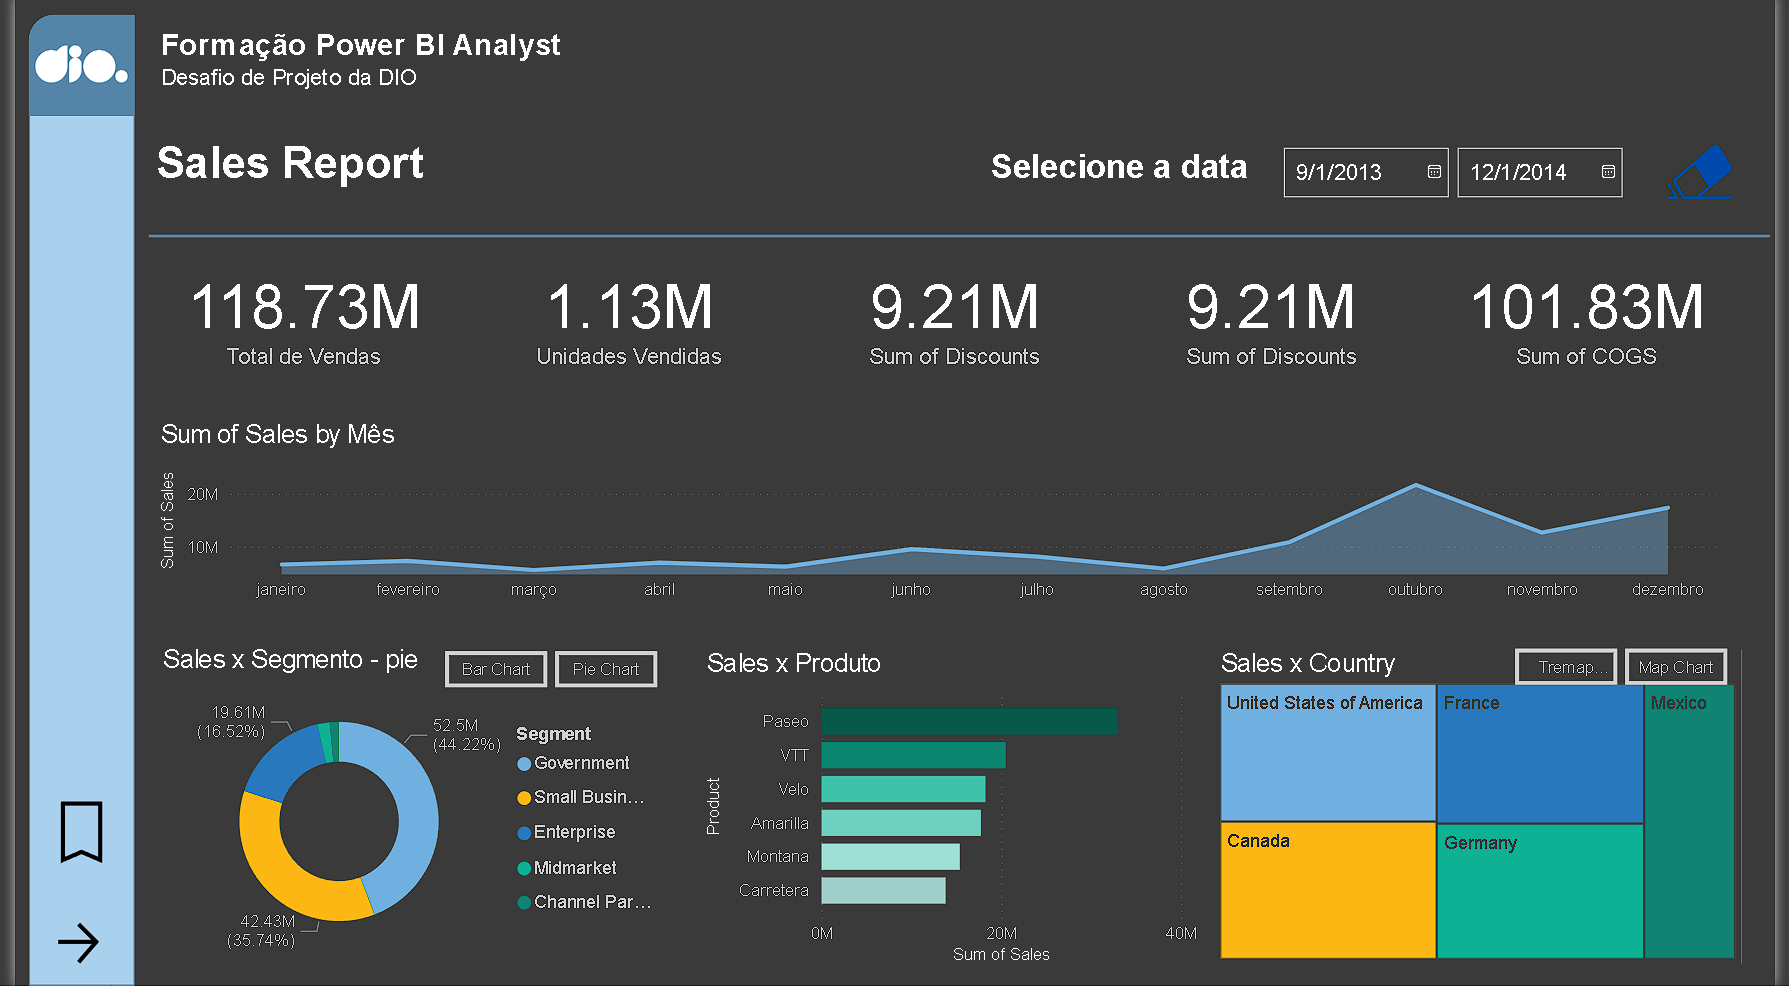

The dashboard page shown, as its layout file describes it:
{"tool":"powerbi","page":{"name":"Página 1","canvas":[1280,720],"ordinal":0},"visuals":[{"type":"shape","box":[10.1,13.4,77.2,706.3],"z":0},{"type":"slicer","fields":{"Values":["financials.Date"]},"box":[909.5,100,271.9,55.9],"z":0,"group":"g2"},{"type":"shape","box":[97,161.1,1179.4,27.4],"z":0,"group":"g5"},{"type":"donutChart","title":"Sales x Segmento - pie","fields":{"Y":["Sum(financials. Sales)"],"Category":["financials.Segment"]},"box":[102.6,471.8,376.3,236.6],"z":0,"group":"g4"},{"type":"map","title":"Sales x Country","fields":{"Category":["financials.Country"],"Size":["Sum(financials. Sales)"]},"box":[873.8,476.1,382,228.1],"z":0,"group":"g3"},{"type":"actionButton","title":"Botão - bar","box":[312.8,476.4,74.5,26.6],"z":500,"group":"g4"},{"type":"actionButton","title":"Botão -pie","box":[392.6,476.4,74.5,26.6],"z":750,"group":"g4"},{"type":"shape","box":[10.1,13.4,77.2,73.8],"z":1000},{"type":"textbox","box":[96.9,98.4,215.2,48.5],"z":1000,"group":"g5"},{"type":"textbox","box":[704.5,105.7,199.3,45.9],"z":1000,"group":"g2"},{"type":"treemap","title":"Sales x Country","fields":{"Group":["financials.Country"],"Values":["Sum(financials. Sales)"]},"box":[872.1,475,384.4,230.9],"z":1000,"group":"g3"},{"type":"actionButton","title":"Botão - map","box":[1170.8,475.3,74.5,26.6],"z":1250,"group":"g3"},{"type":"actionButton","title":"Botão - tremap","box":[1090.9,475.3,74.5,26.6],"z":1500,"group":"g3"},{"type":"image","title":"logo_dio","box":[10.1,18.5,77.2,62.1],"z":2000},{"type":"actionButton","box":[1195.7,104.3,59.8,51.6],"z":2000,"group":"g2"},{"type":"textbox","box":[100.7,18.5,365.7,68.8],"z":3000},{"type":"image","title":"clean","box":[1195.7,100,59.8,55.9],"z":3000,"group":"g2"},{"type":"group","id":"g1","title":"Cartões","box":[104.5,180.1,1144,105.5],"z":4000},{"type":"card","fields":{"Values":["Sum(financials. Sales)"]},"box":[104.5,180.1,211.1,105.5],"z":5000,"group":"g1"},{"type":"areaChart","fields":{"Category":["financials.Date.Variation.Hierarquia de datas.Mês"],"Y":["Sum(financials. Sales)"]},"box":[101.2,307.9,1143.2,139.7],"z":5000},{"type":"card","fields":{"Values":["Sum(financials.Units Sold)"]},"box":[341.3,180.1,211.1,105.5],"z":6000,"group":"g1"},{"type":"clusteredBarChart","title":"Sales x Produto","fields":{"Y":["Sum(financials. Sales)"],"Category":["financials.Product"]},"box":[498.3,474.5,366.9,233.8],"z":6000},{"type":"group","id":"g2","title":"Filtro por data","box":[704.5,100,551,55.9],"z":7000},{"type":"card","fields":{"Values":["Sum(financials.Discounts)"]},"box":[807.7,180.1,211.1,105.5],"z":7000,"group":"g1"},{"type":"card","fields":{"Values":["Sum(financials.Discounts)"]},"box":[578.1,180.1,211.1,105.5],"z":8000,"group":"g1"},{"type":"group","id":"g3","title":"Sales x país","box":[872.1,475,384.4,230.9],"z":8000},{"type":"card","fields":{"Values":["Sum(financials.COGS)"]},"box":[1037.4,180.1,211.1,105.5],"z":9000,"group":"g1"},{"type":"group","id":"g4","title":"Sales x Segmento","box":[96,471.8,382.9,236.8],"z":9000},{"type":"group","id":"g5","title":"Title report","box":[96.9,98.4,1179.5,90],"z":10000},{"type":"actionButton","box":[25.9,669,48.8,39.6],"z":11000},{"type":"actionButton","box":[20.2,555.8,57.1,104.7],"z":11001}]}

Visuals, with their boxes in screenshot pixels (x1, y1, x2, y2), scaled from the page's 1280x720 canvas onto the 1789x986 screenshot:
shape: x1=14 y1=18 x2=122 y2=985
slicer - financials.Date: x1=1271 y1=137 x2=1651 y2=213
shape: x1=136 y1=221 x2=1784 y2=258
"Sales x Segmento - pie" donutChart: x1=143 y1=646 x2=669 y2=970
"Sales x Country" map: x1=1221 y1=652 x2=1755 y2=964
"Botão - bar" actionButton: x1=437 y1=652 x2=541 y2=689
"Botão -pie" actionButton: x1=549 y1=652 x2=653 y2=689
shape: x1=14 y1=18 x2=122 y2=119
textbox: x1=135 y1=135 x2=436 y2=201
textbox: x1=985 y1=145 x2=1263 y2=208
"Sales x Country" treemap: x1=1219 y1=650 x2=1756 y2=967
"Botão - map" actionButton: x1=1636 y1=651 x2=1741 y2=687
"Botão - tremap" actionButton: x1=1525 y1=651 x2=1629 y2=687
"logo_dio" image: x1=14 y1=25 x2=122 y2=110
actionButton: x1=1671 y1=143 x2=1755 y2=213
textbox: x1=141 y1=25 x2=652 y2=120
"clean" image: x1=1671 y1=137 x2=1755 y2=213
"Cartões" group: x1=146 y1=247 x2=1745 y2=391
card - Sum(financials. Sales): x1=146 y1=247 x2=441 y2=391
areaChart - financials.Date.Variation.Hierarquia de datas.Mês x Sum(financials. Sales): x1=141 y1=422 x2=1739 y2=613
card - Sum(financials.Units Sold): x1=477 y1=247 x2=772 y2=391
"Sales x Produto" clusteredBarChart: x1=696 y1=650 x2=1209 y2=970
"Filtro por data" group: x1=985 y1=137 x2=1755 y2=213
card - Sum(financials.Discounts): x1=1129 y1=247 x2=1424 y2=391
card - Sum(financials.Discounts): x1=808 y1=247 x2=1103 y2=391
"Sales x país" group: x1=1219 y1=650 x2=1756 y2=967
card - Sum(financials.COGS): x1=1450 y1=247 x2=1745 y2=391
"Sales x Segmento" group: x1=134 y1=646 x2=669 y2=970
"Title report" group: x1=135 y1=135 x2=1784 y2=258
actionButton: x1=36 y1=916 x2=104 y2=970
actionButton: x1=28 y1=761 x2=108 y2=905
